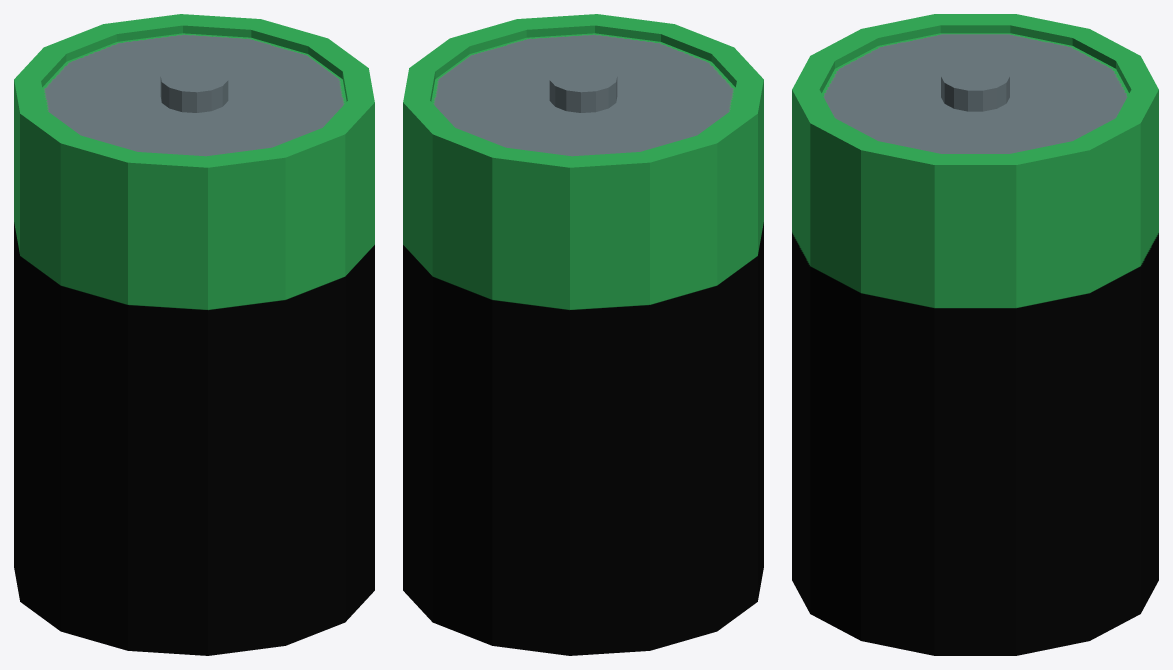
The model's file is Battery Cylinder.fbx.
The picture shows the model from 3 angles, left to right: view 1: azimuth 30°, elevation 25°; view 2: azimuth 150°, elevation 25°; view 3: azimuth 270°, elevation 25°; orthographic projection.
Visible parts, largest first — view 1: Cylinder; view 2: Cylinder; view 3: Cylinder.
Boxes of the visible parts, x1,y1,x2,y2 form: Cylinder: [14, 14, 374, 655]; Cylinder: [403, 14, 763, 655]; Cylinder: [792, 14, 1158, 655].
Size of the model in its own units: 195 by 306 by 200.
1 material, 1 textured.
